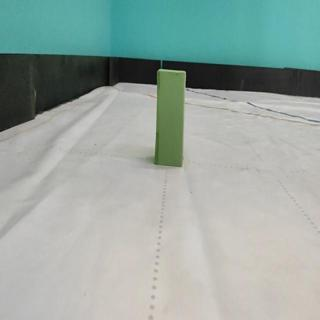greenbox: (153, 67, 186, 169)
